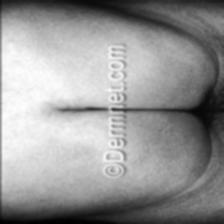Potentially Malignant Skin Tumors: (40, 145, 84, 176), (144, 61, 174, 85)
